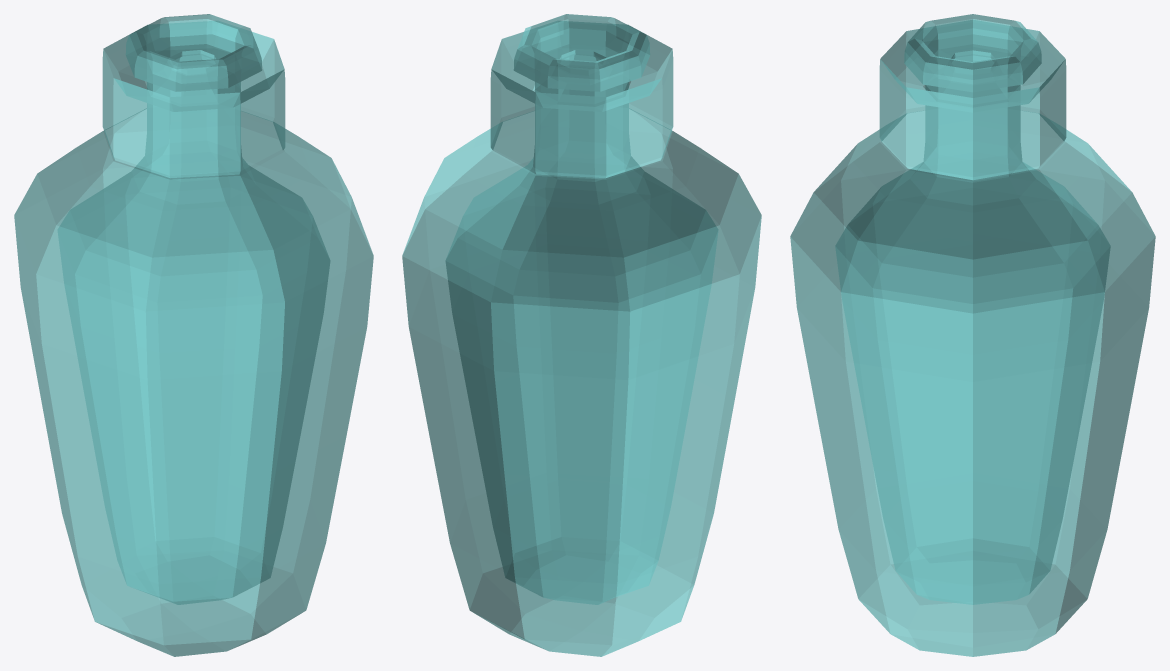
The model's file is Vase 5.fbx.
3 renders of one model, left to right at view 1: azimuth 30°, elevation 25°; view 2: azimuth 150°, elevation 25°; view 3: azimuth 270°, elevation 25°, orthographic.
Parts seen in each view (by area): view 1: Node 0; view 2: Node 0; view 3: Node 0.
Part boxes in pixels (<box>): Node 0: <box>14,14,373,656</box>; Node 0: <box>402,14,761,656</box>; Node 0: <box>790,14,1155,656</box>.
Size of the model in its own units: 0.1152 by 0.2068 by 0.1152.
